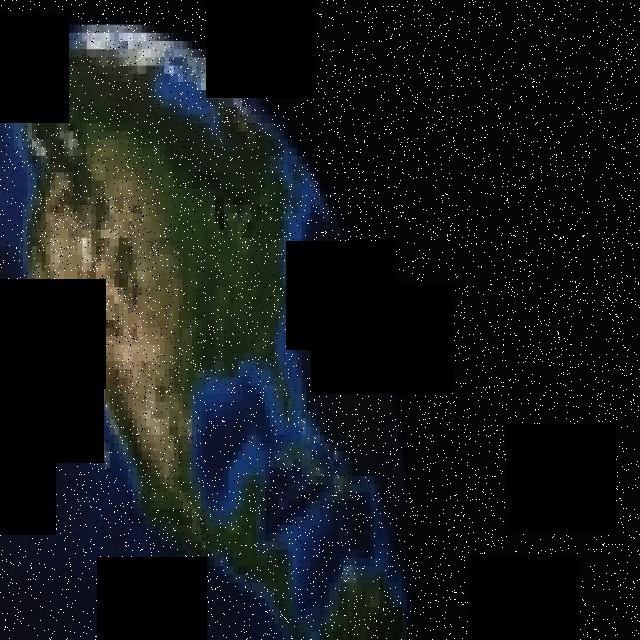Earth: (0, 24, 416, 640)
